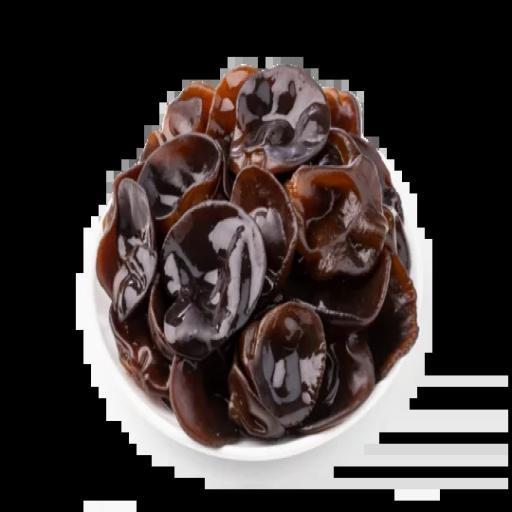mushroom: (85, 53, 429, 450)
